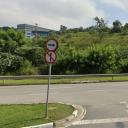NoSeguir: (45, 52, 57, 64)
